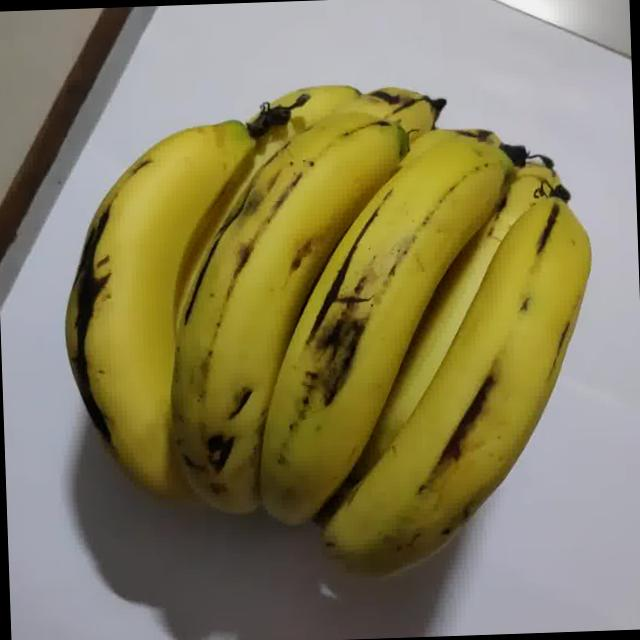banana_pacche: (35, 0, 620, 623)
